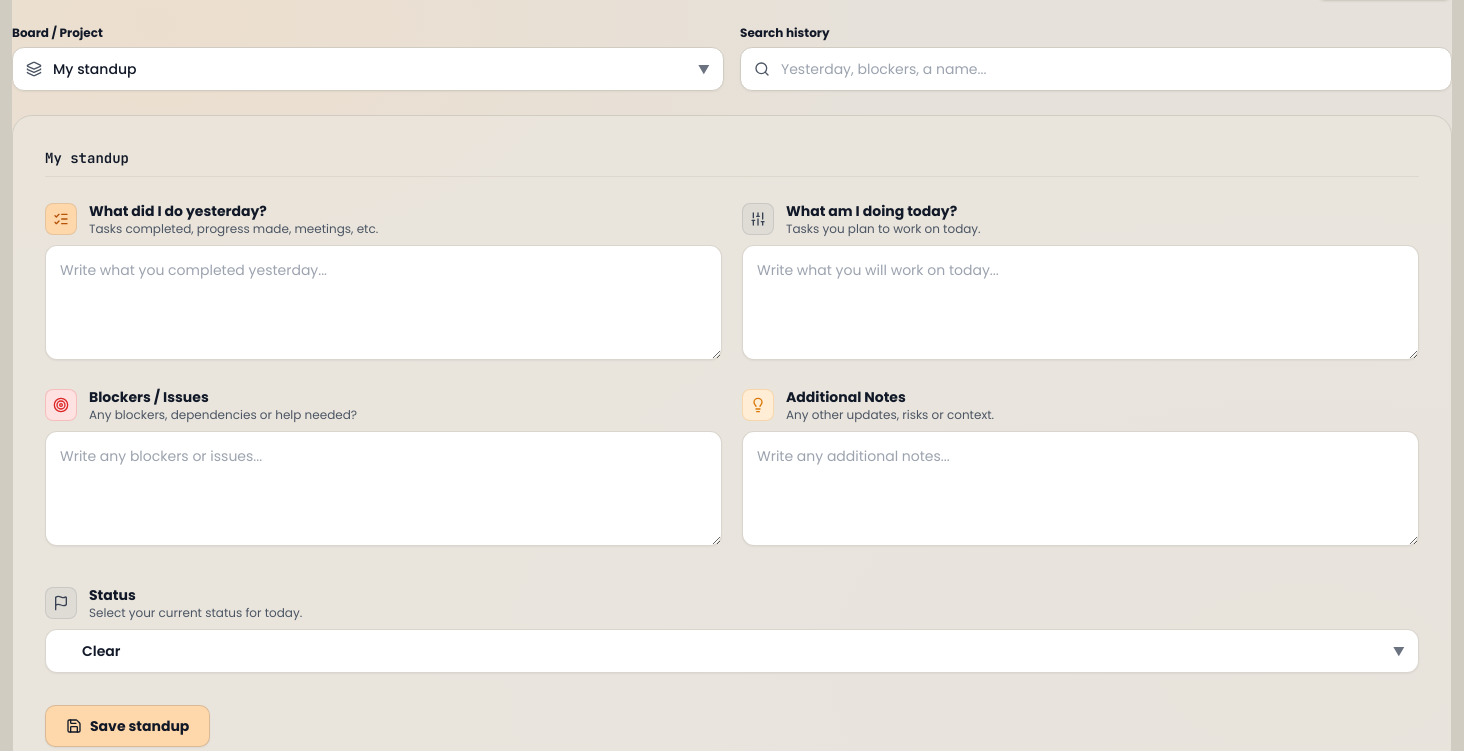
Test: StandupsView: create standup › empty state › shows the no-results message when history search finds nothing
Type "deploy" into the field labelled "Search history" at (1096, 69), box x1=740 y1=47 x2=1452 y2=91
(page scrolled)
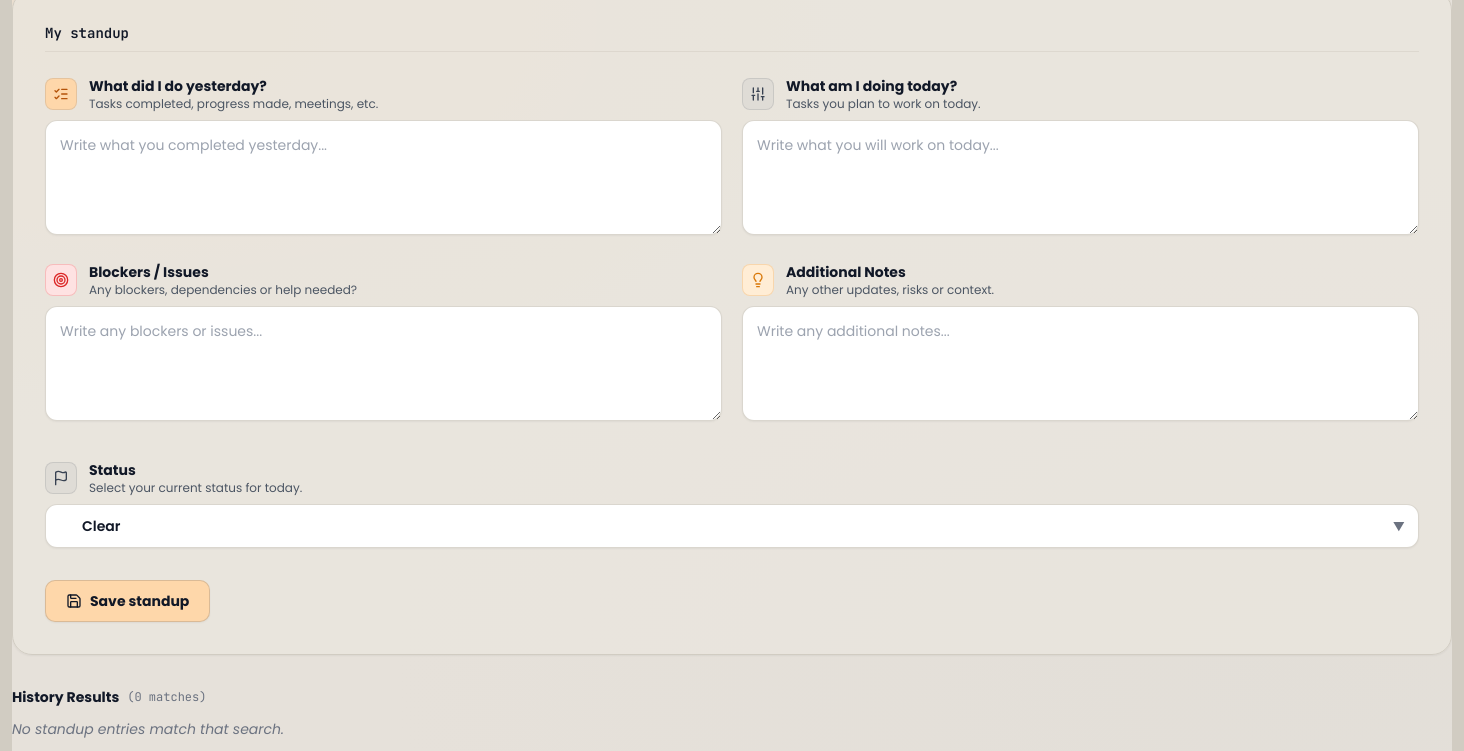
expect the text "No standup entries match that search." is shown: met, box x1=12 y1=719 x2=284 y2=739
